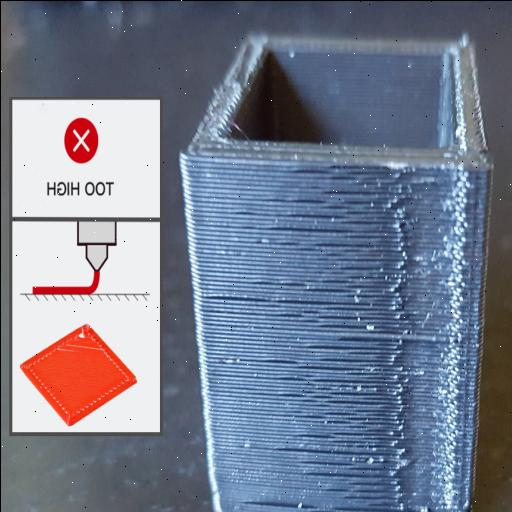blobs: (380, 174, 427, 510)
